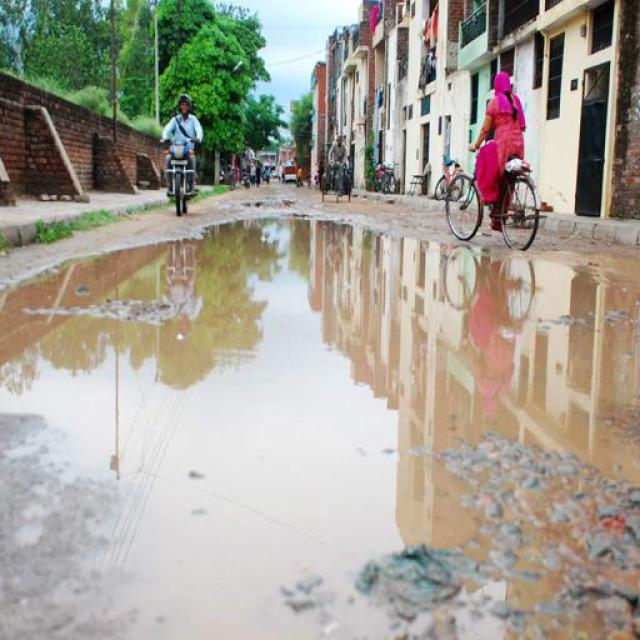puddle: (57, 268, 628, 453), (137, 469, 479, 636), (209, 217, 387, 278)
